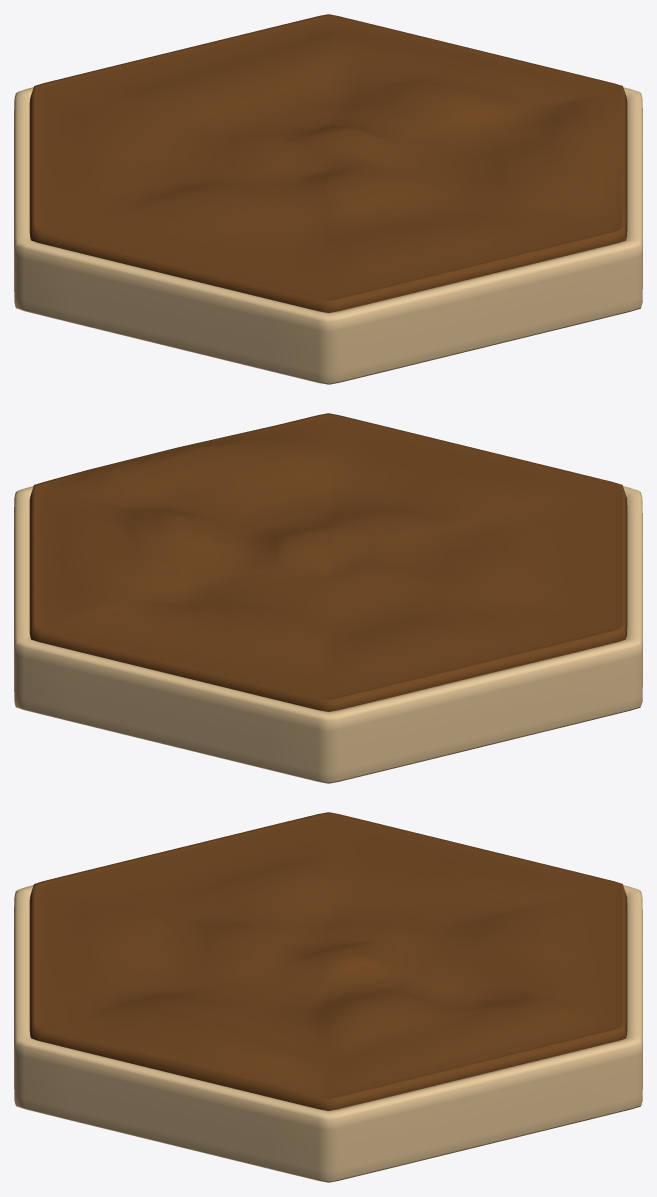
The model's file is Wax Tile.fbx.
3 views of the same model, one above another, from view 1: azimuth 30°, elevation 25°; view 2: azimuth 150°, elevation 25°; view 3: azimuth 270°, elevation 25° (orthographic).
Parts seen in each view (by area): view 1: Honey Top, Wax Tile; view 2: Honey Top, Wax Tile; view 3: Honey Top, Wax Tile.
Boxes of the visible parts, x1,y1,x2,y2 form: Honey Top: (29, 14, 627, 312); Wax Tile: (14, 87, 642, 384); Honey Top: (29, 413, 627, 711); Wax Tile: (14, 486, 642, 783); Honey Top: (29, 812, 627, 1110); Wax Tile: (14, 885, 642, 1182).
Bounding box in the file's own units: 99.54 × 14.01 × 86.6.
Materials: 1 (1 with a texture image).
